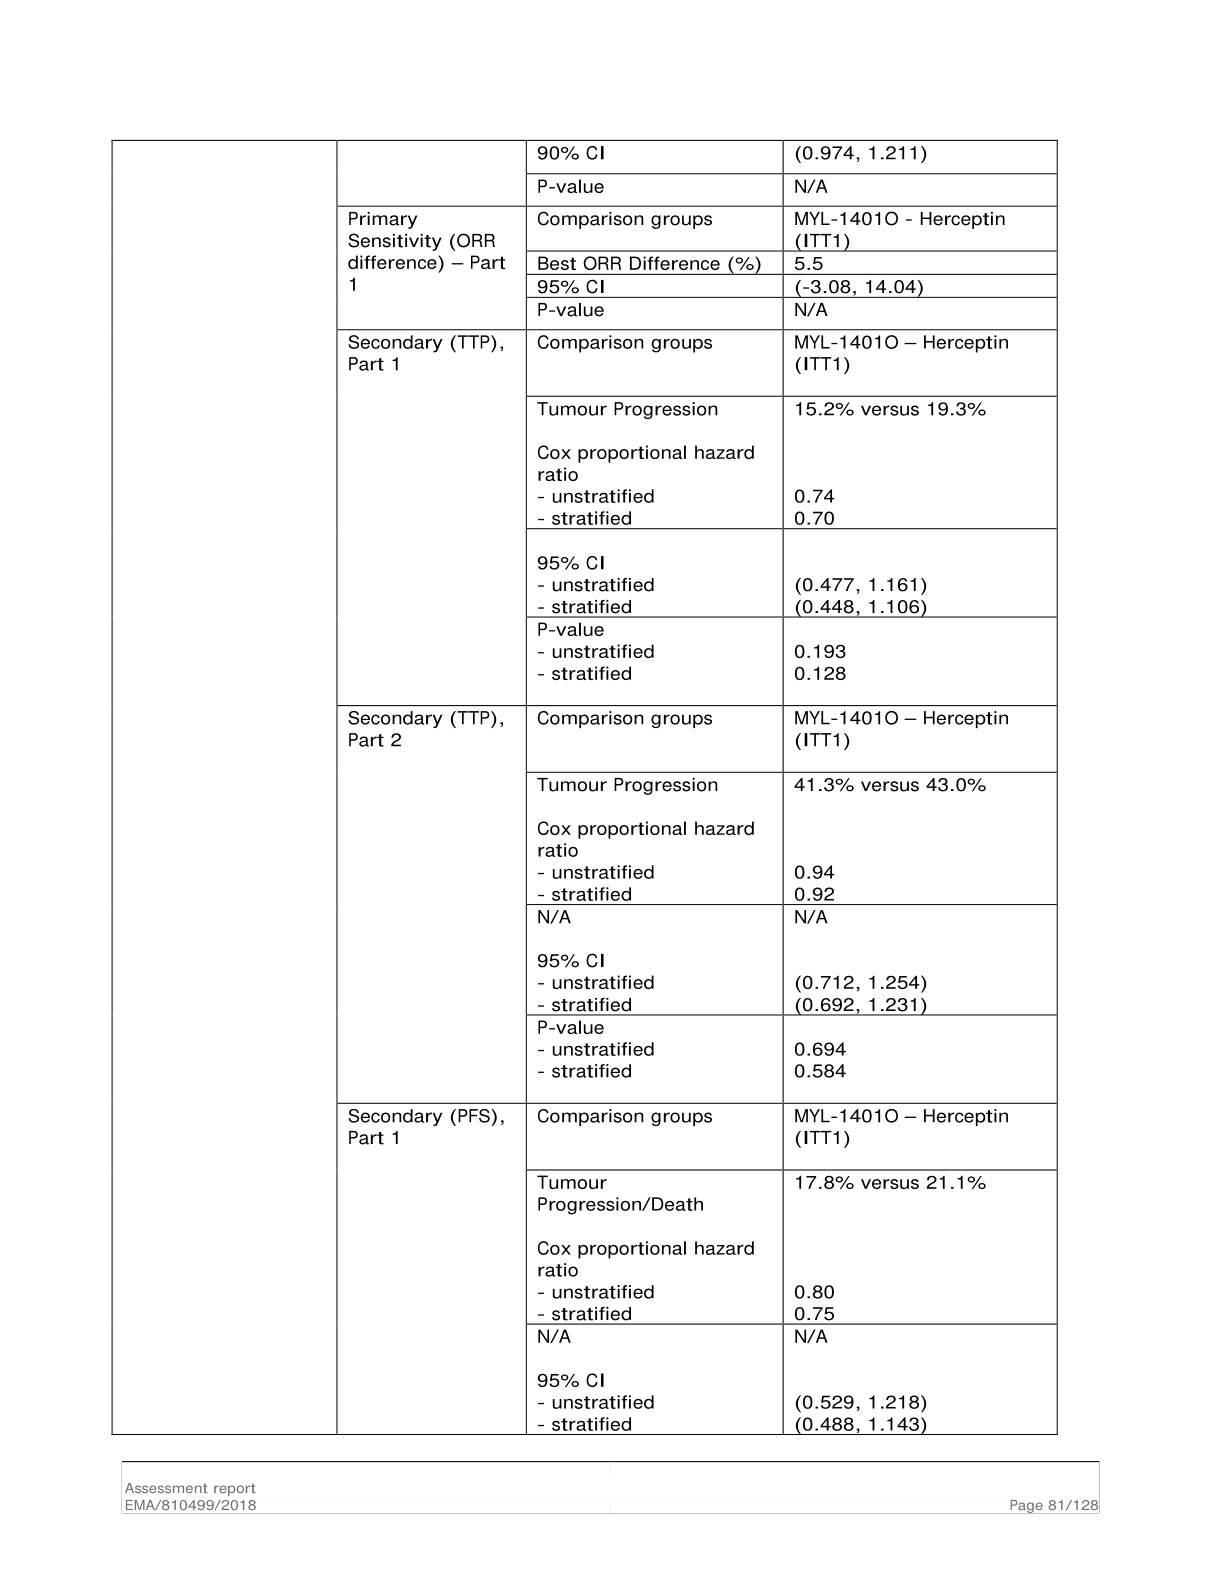merged_cells: (111, 139, 1059, 1436)
